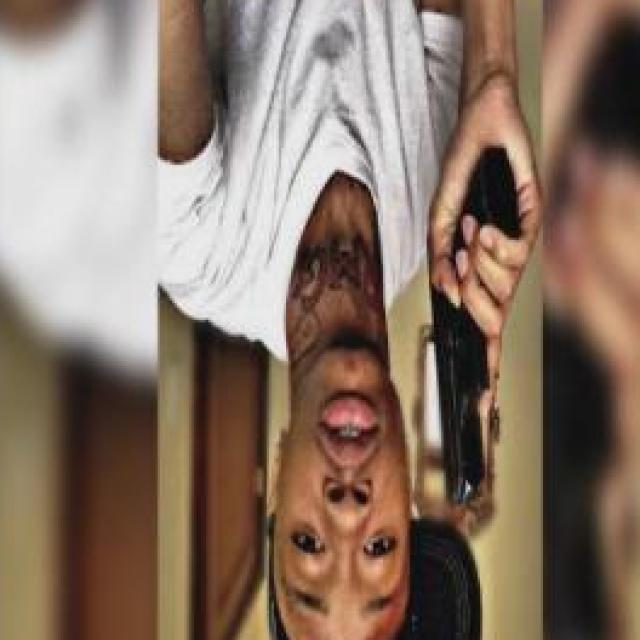pistol: (424, 155, 516, 502)
